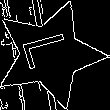L_E: (20, 32, 79, 77)
